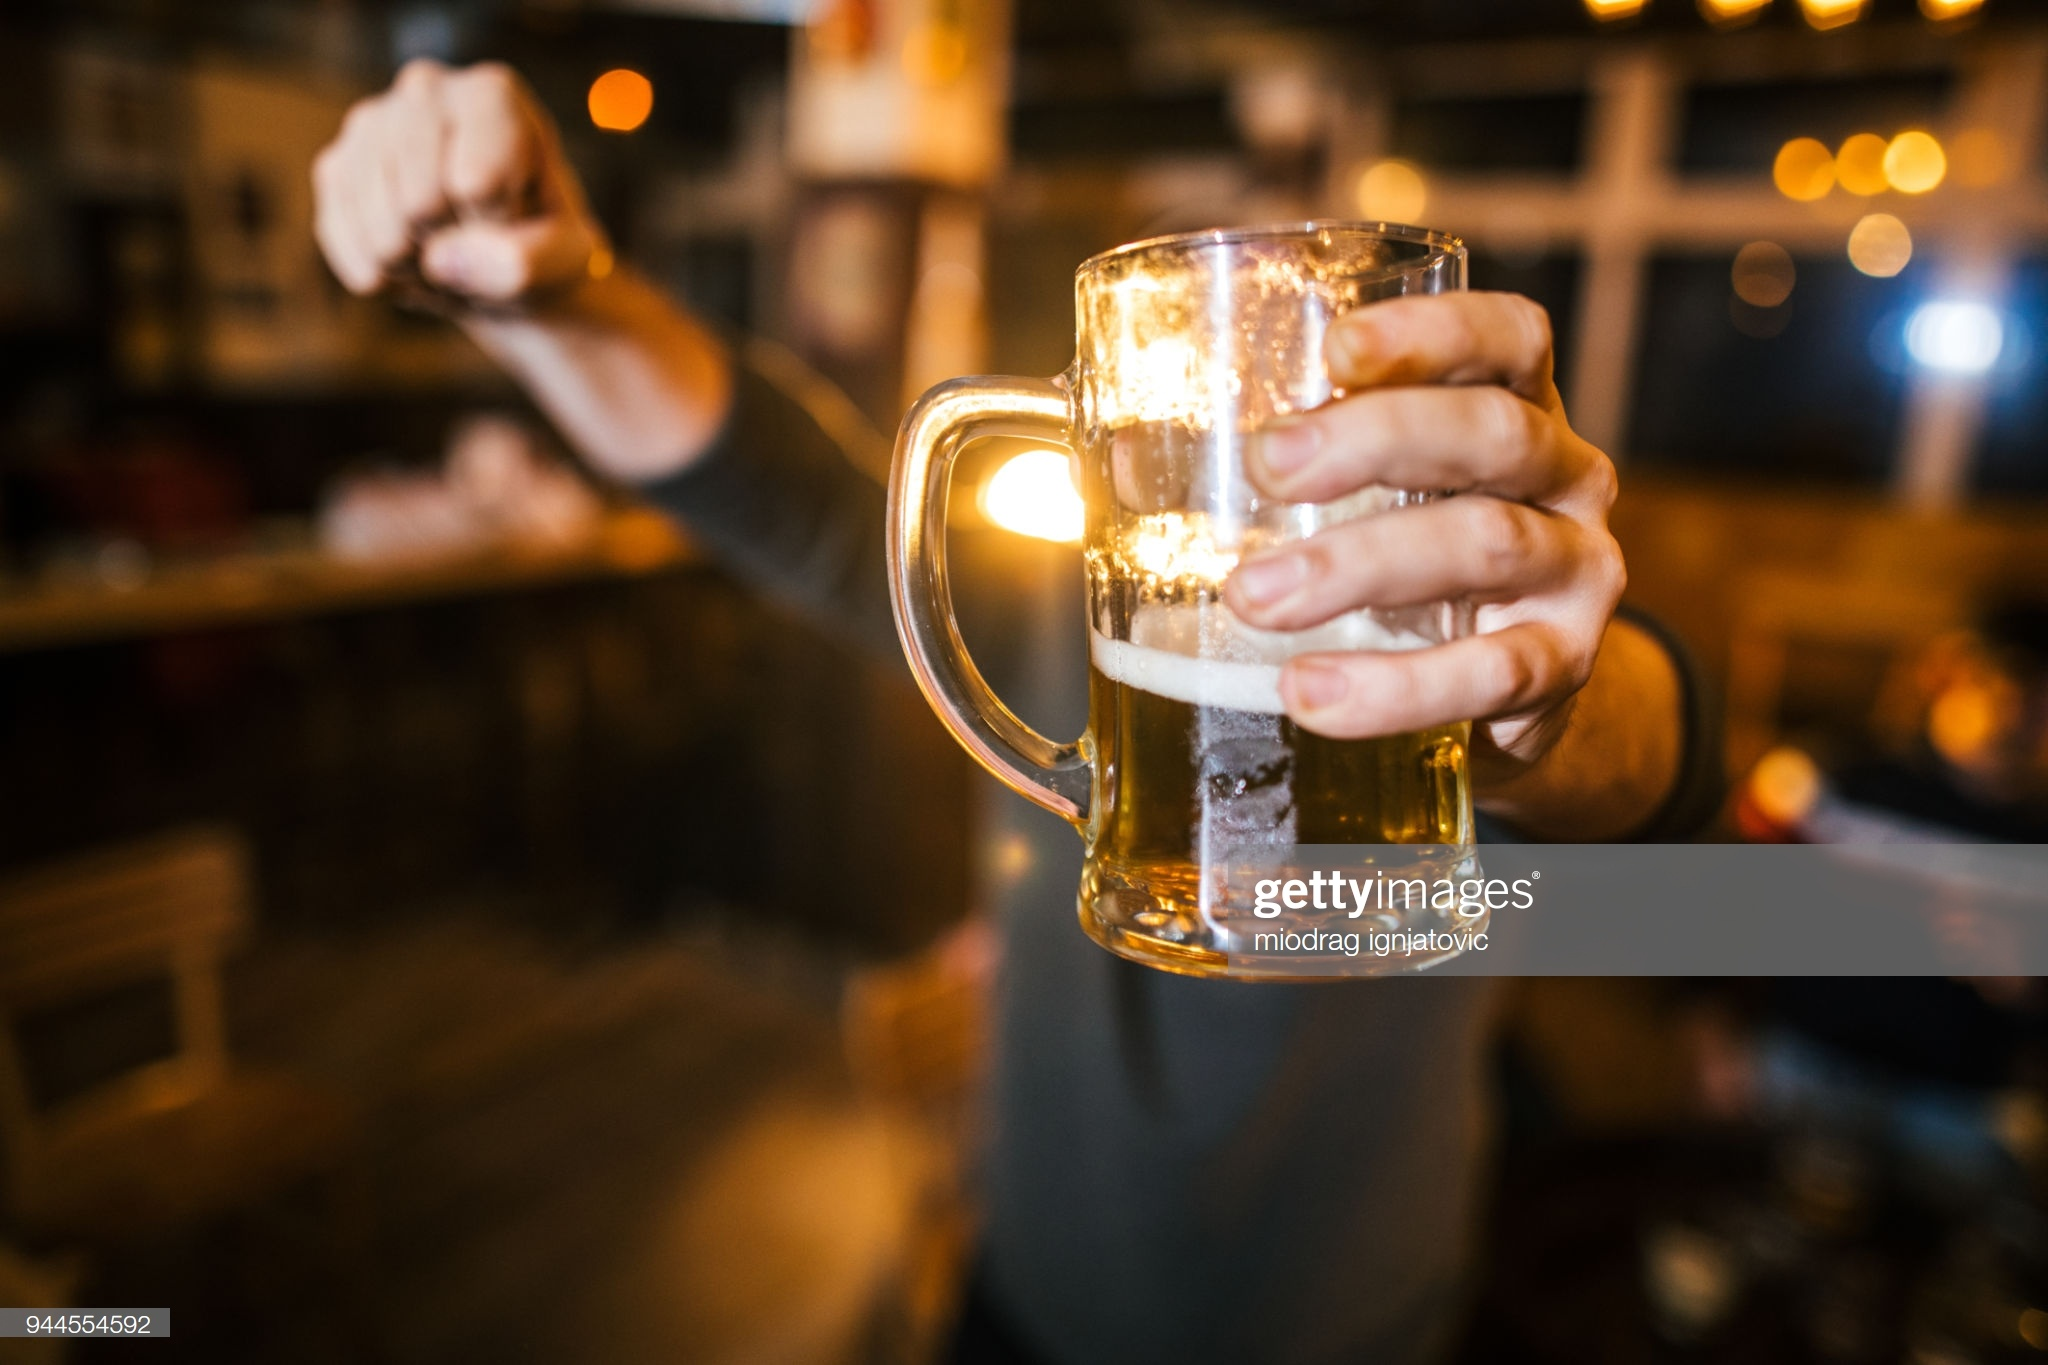glassBeer: (1057, 233, 1501, 973)
